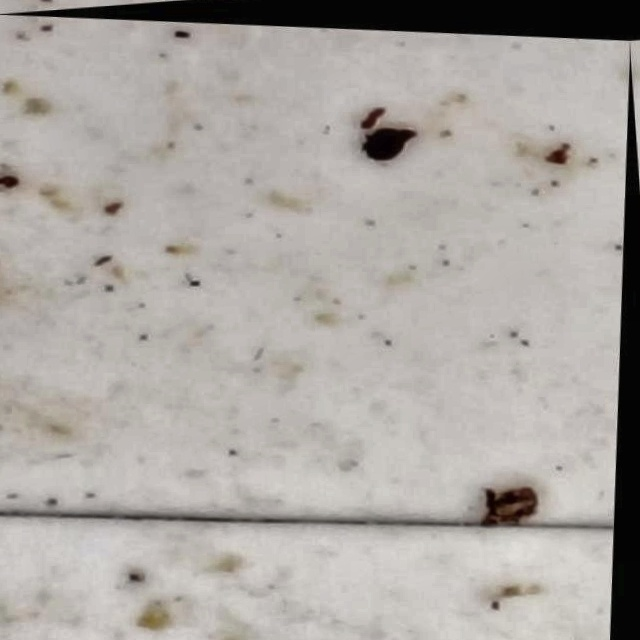varroa: (365, 121, 408, 159)
